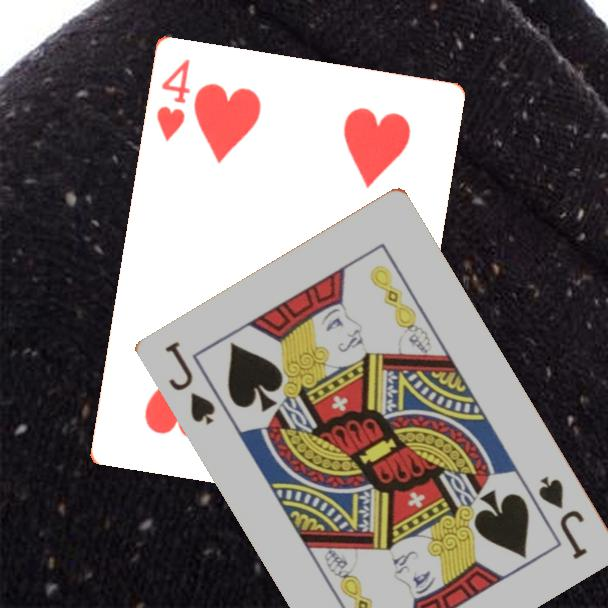h04: (152, 54, 193, 145)
s11: (162, 338, 219, 428), (535, 472, 591, 563)
